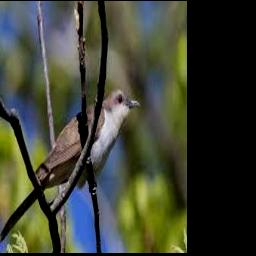Cuckoo: (0, 89, 140, 244)
